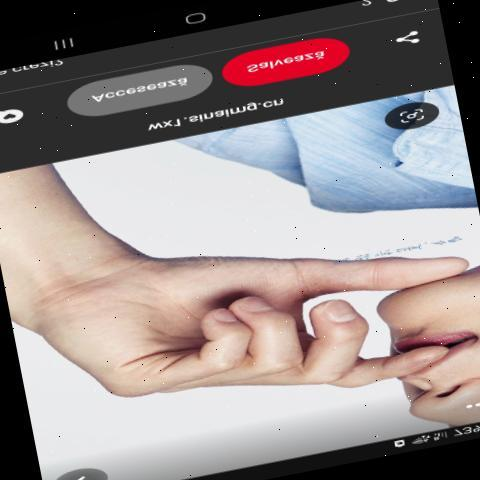Hands: (48, 173, 471, 456)
